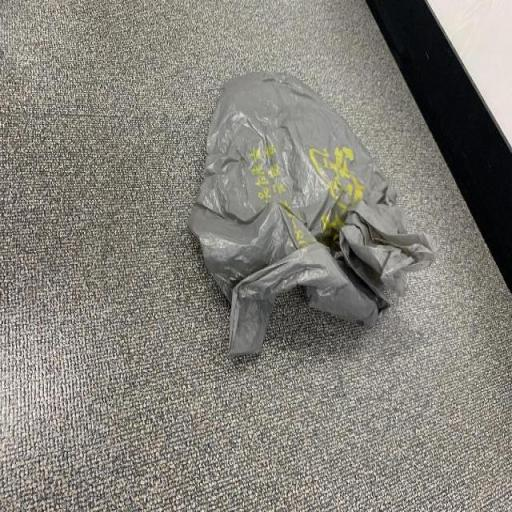plastic-bag: (186, 67, 443, 366)
